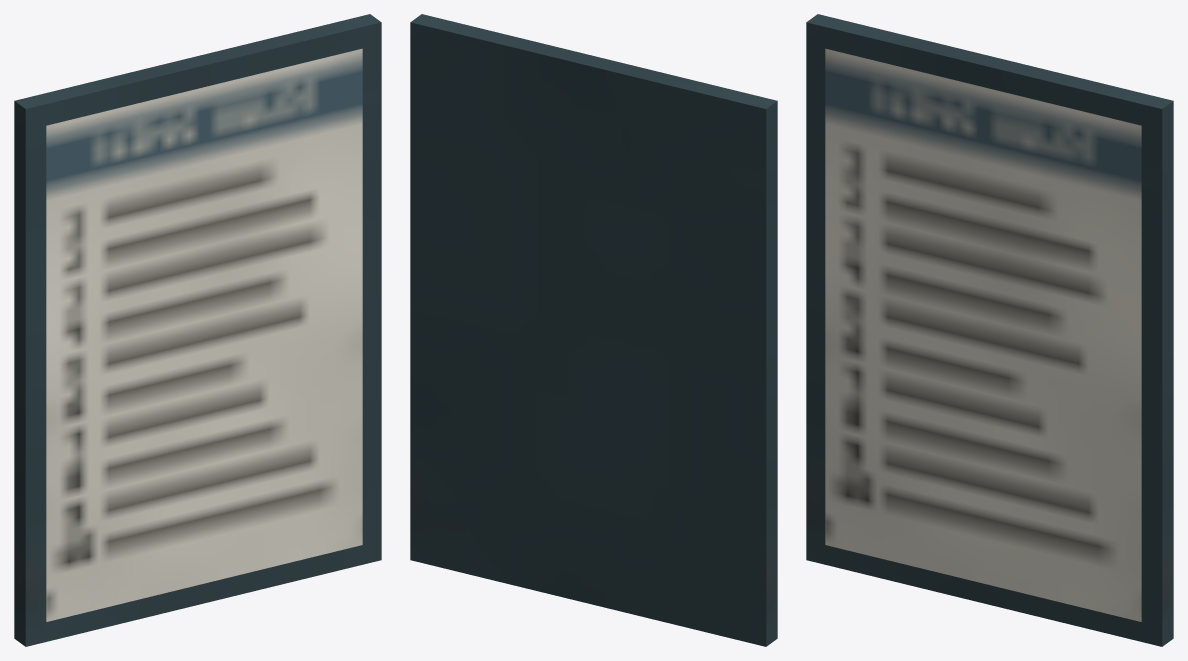
File: rules_prison.fbx
3 renders of one model, left to right at view 1: azimuth 30°, elevation 25°; view 2: azimuth 150°, elevation 25°; view 3: azimuth 330°, elevation 25°, orthographic.
Parts seen in each view (by area): view 1: rules_prison; view 2: rules_prison; view 3: rules_prison.
Boxes of the visible parts, x1,y1,x2,y2 form: rules_prison: (14,14,381,646); rules_prison: (410,14,777,646); rules_prison: (806,14,1173,646).
Size of the model in its own units: 0.45 by 0.65 by 0.027.
1 material, 1 textured.
